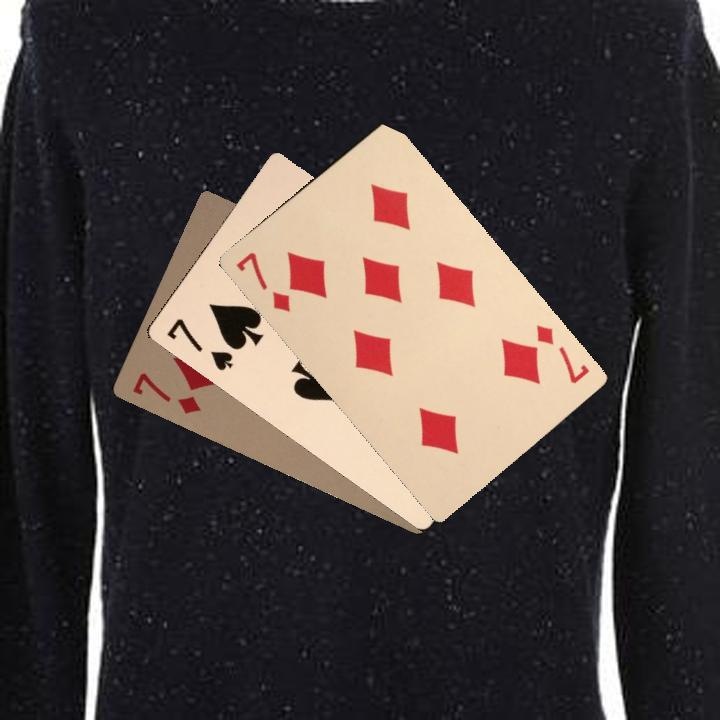7d: (232, 248, 293, 315), (532, 320, 592, 387), (128, 368, 204, 417)
7s: (162, 314, 236, 374)
